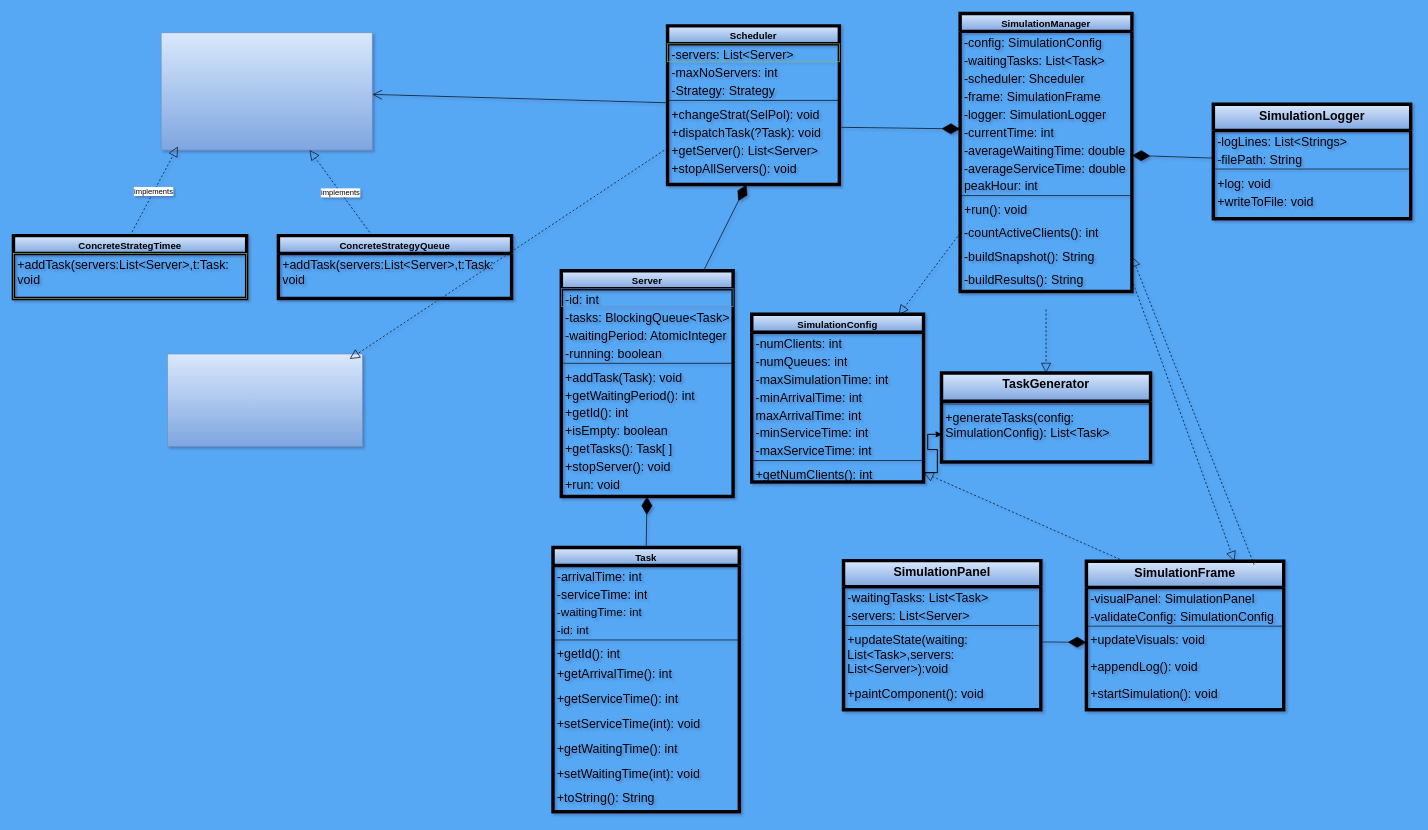
Some shapes in this 1428 by 830 pixel diagram are drawn without their labels. The centre of each missing label's shape, as x and y in pixels:
"enum SelectionPolicy SHORTEST_QUEUE SHORTEST_TIME" belongs at pixel 265 399.
"« interface » Strategy +addTask(servers: List<Server>, t: Task): void" belongs at pixel 266 91.
